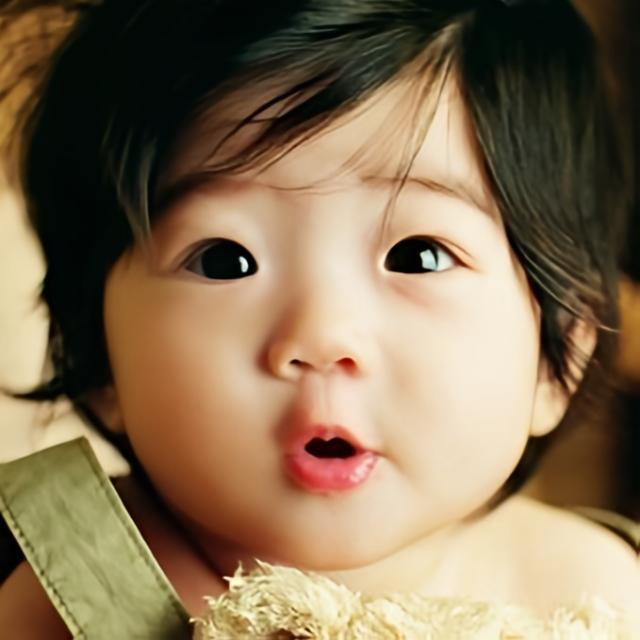surprise: (105, 39, 545, 564)
